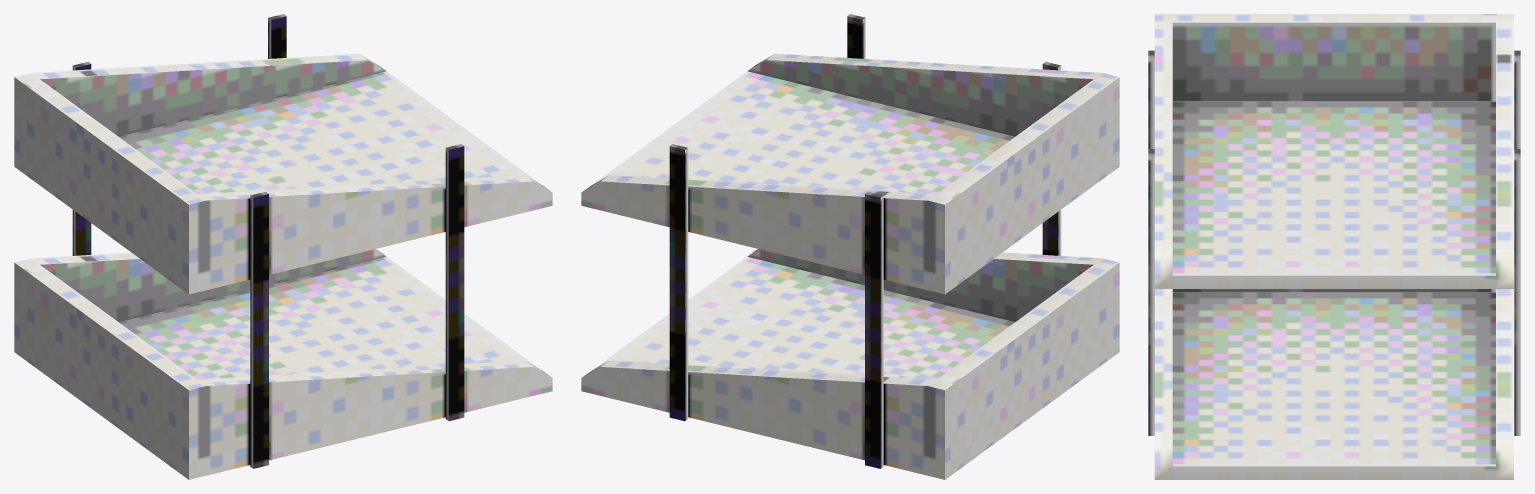
File: Organizador_hojas.fbx
The picture shows the model from 3 angles, left to right: view 1: azimuth 30°, elevation 25°; view 2: azimuth 150°, elevation 25°; view 3: azimuth 270°, elevation 25°; orthographic projection. The views are drawn at different scales.
Parts seen in each view (by area): view 1: Organizador_papeles1; view 2: Organizador_papeles1; view 3: Organizador_papeles1.
Part boxes in pixels (x1,y1,x2,y2): Organizador_papeles1: (14,14,552,479); Organizador_papeles1: (581,14,1119,479); Organizador_papeles1: (1148,14,1520,479).
Bounding box in the file's own units: 1.49 × 1.08 × 1.28.
